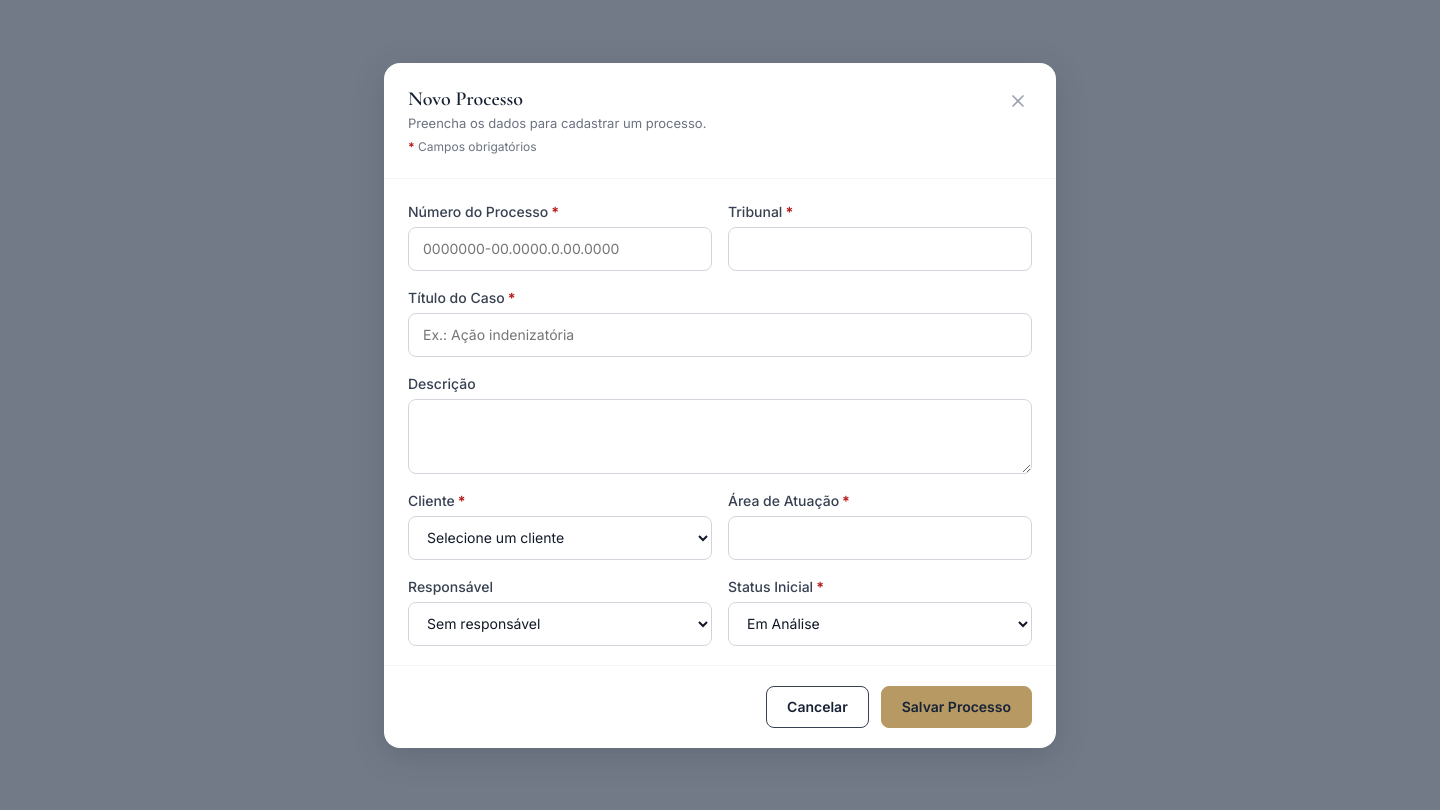
ProcessFormModal › formata o CNJ automaticamente ao digitar
The image size is (1440, 810).
Check: the text "* Campos obrigatórios" is shown, box [408,138,537,154]
In the field labelled "Número do Processo": (560, 248) [408,226,712,270], type "0061234abc562026x8y2601009999"
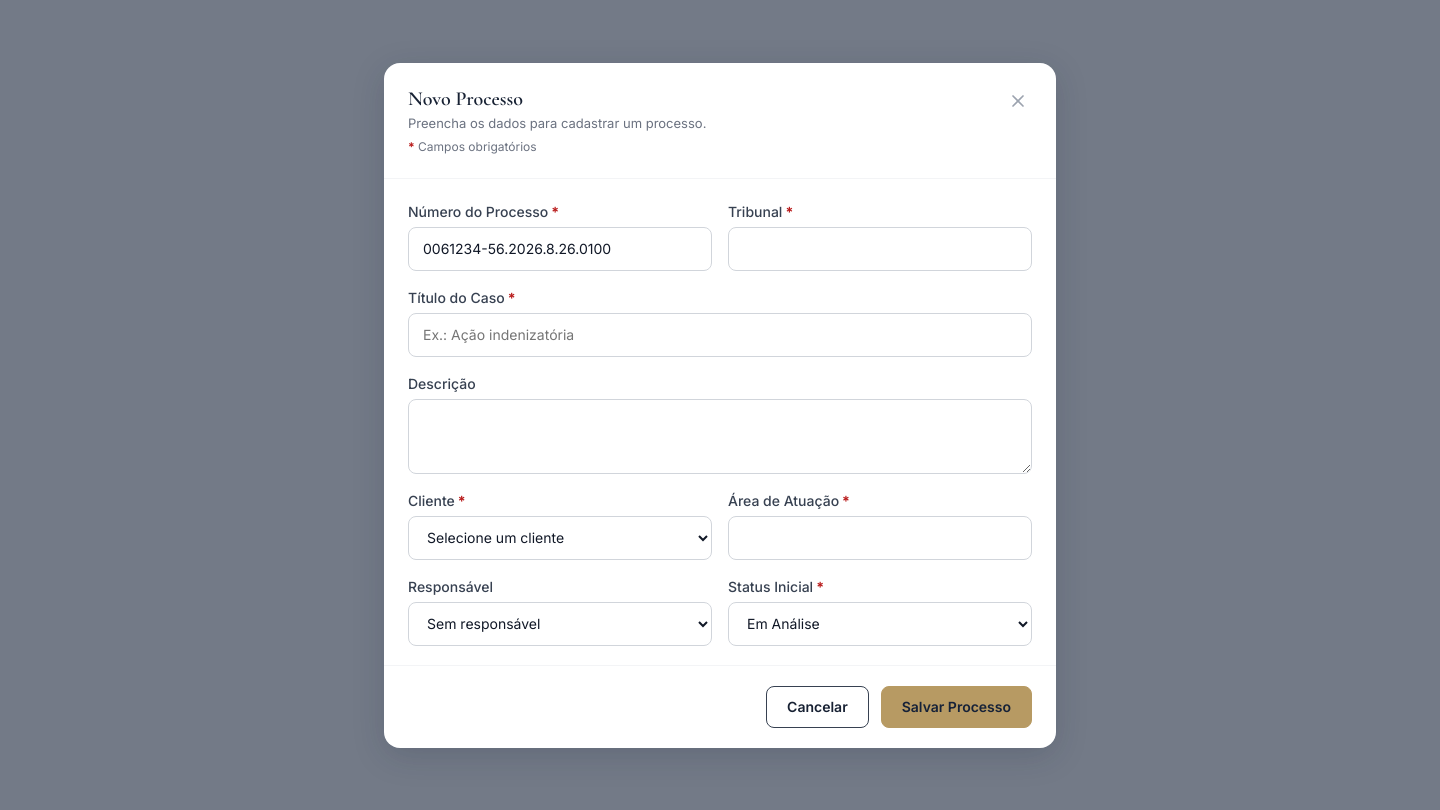
Check: the field labelled "Número do Processo" holds "0061234-56.2026.8.26.0100", box [408,226,712,270]
